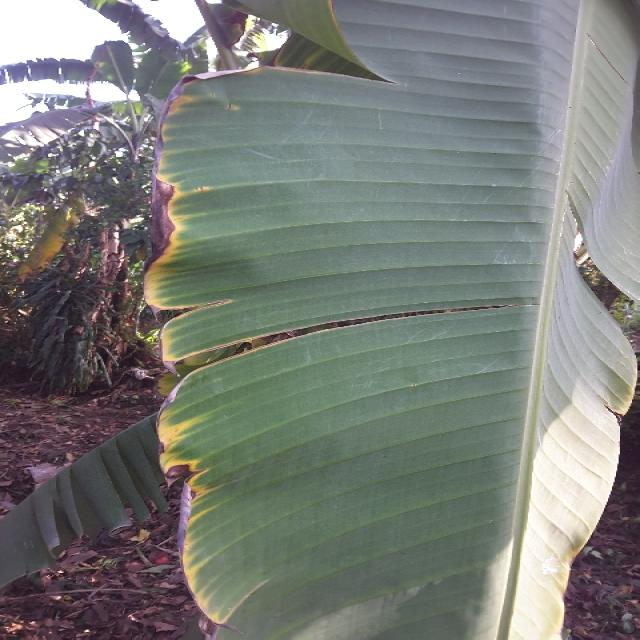Cordana: (152, 0, 343, 639), (0, 190, 88, 311), (52, 57, 126, 114)
